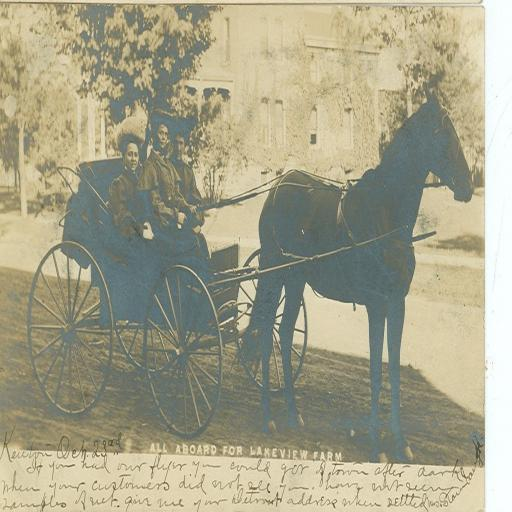horse: (227, 81, 476, 467)
